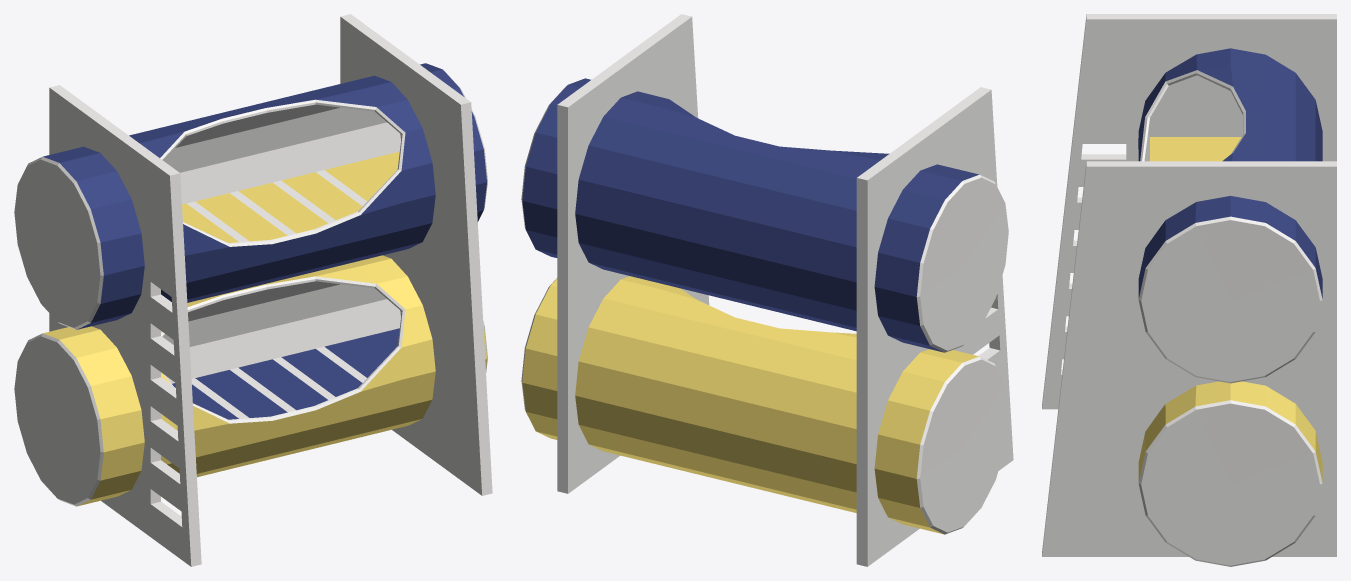
Rendered from Bunk_bed.fbx.
3 views of the same model, side by side, from view 1: azimuth 30°, elevation 25°; view 2: azimuth 150°, elevation 25°; view 3: azimuth 270°, elevation 25° (orthographic). The views are drawn at different scales.
Parts seen in each view (by area): view 1: Bunk_bed; view 2: Bunk_bed; view 3: Bunk_bed.
Boxes of the visible parts, x1,y1,x2,y2 form: Bunk_bed: (14, 14, 492, 566); Bunk_bed: (521, 14, 1013, 566); Bunk_bed: (1042, 14, 1336, 566).
Size of the model in its own units: 294 by 186 by 272.
